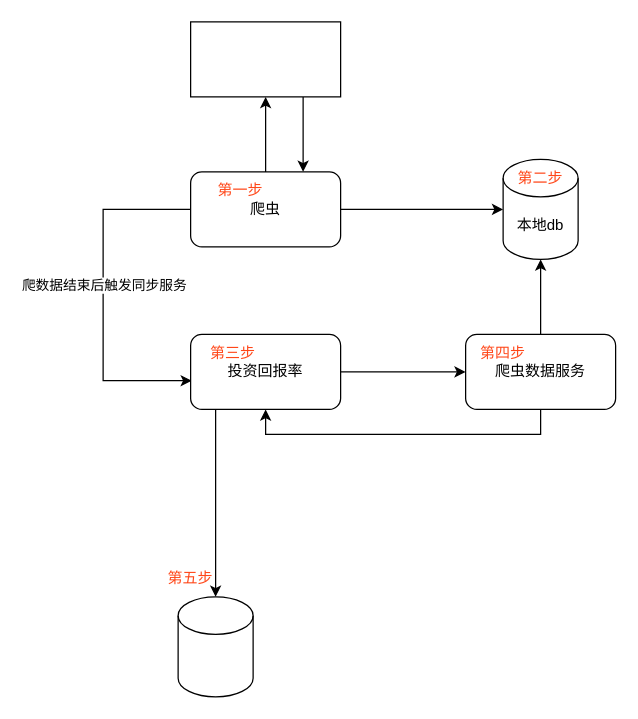
The diagram is 638 pixels wide and 719 high, and some of its shapes have lost their labels. Here are the shapes that lost their labels. From the top down, the centre of each, then its label:
At (x=265, y=59): "汽车之家".
At (x=215, y=646): "投资回报率db".
